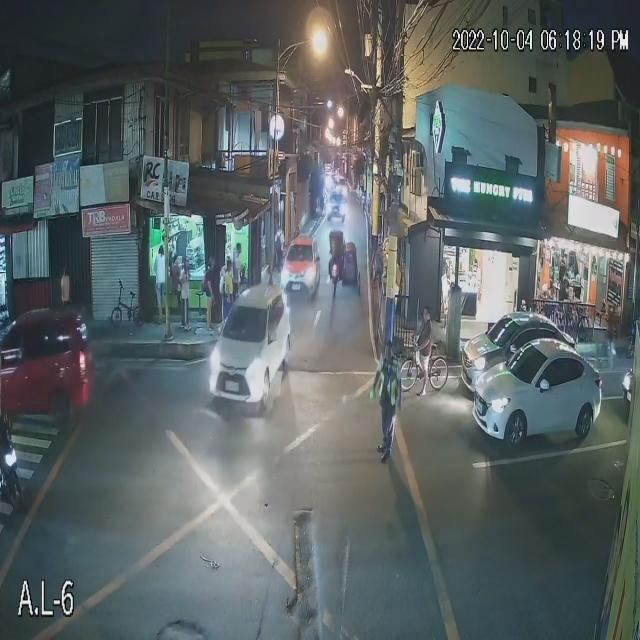motorcycle: (0, 420, 28, 507)
